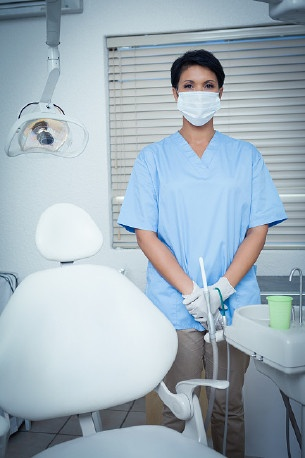Mask: (174, 75, 221, 122)
